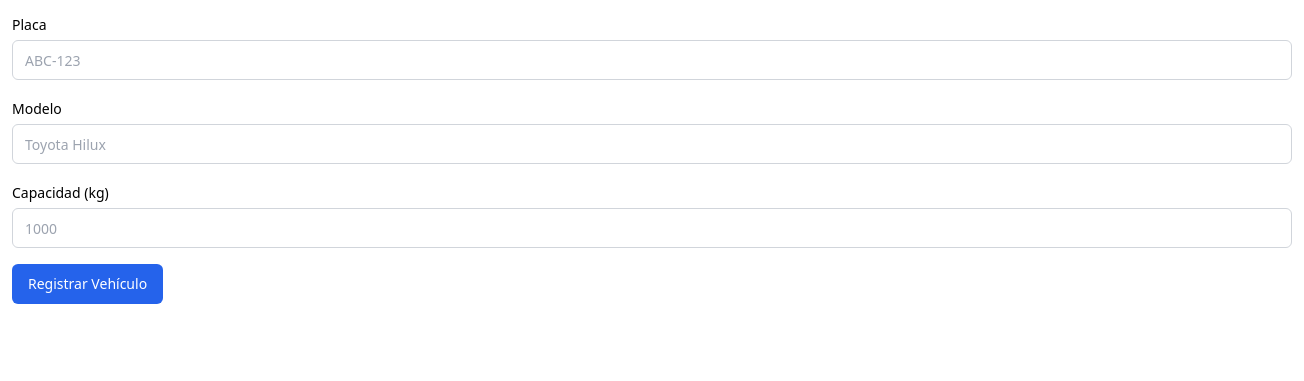
Scenario: R17 — VehiculoForm: debe mostrar errores de validación inline al enviar campos inválidos › muestra mensajes de validación junto a cada campo inválido sin enviar el formulario
The image size is (1304, 381).
Click the button "Registrar Vehículo" at {"x": 88, "y": 284}, box x1=12 y1=264 x2=163 y2=304
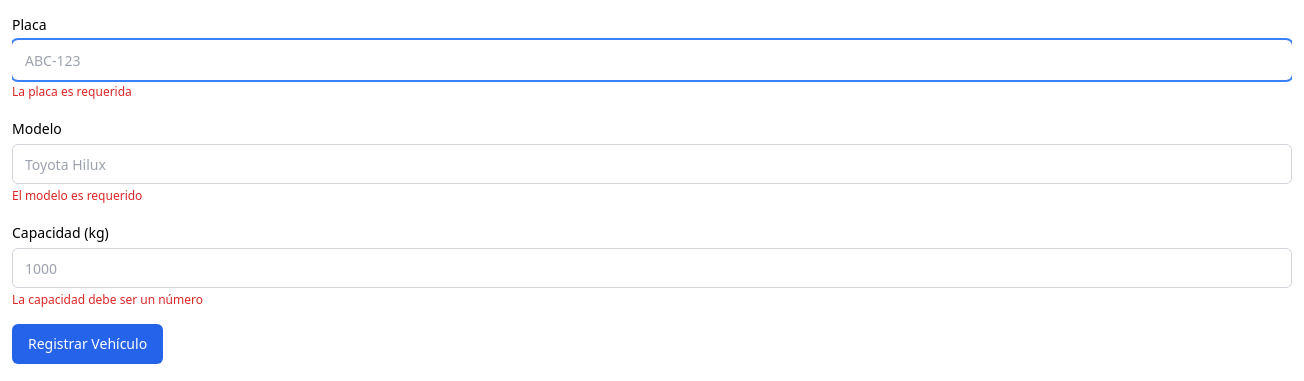
Result: the text "La placa es requerida" is shown at x1=12 y1=83 x2=132 y2=100
Result: the text "El modelo es requerido" is shown at x1=12 y1=187 x2=142 y2=204
